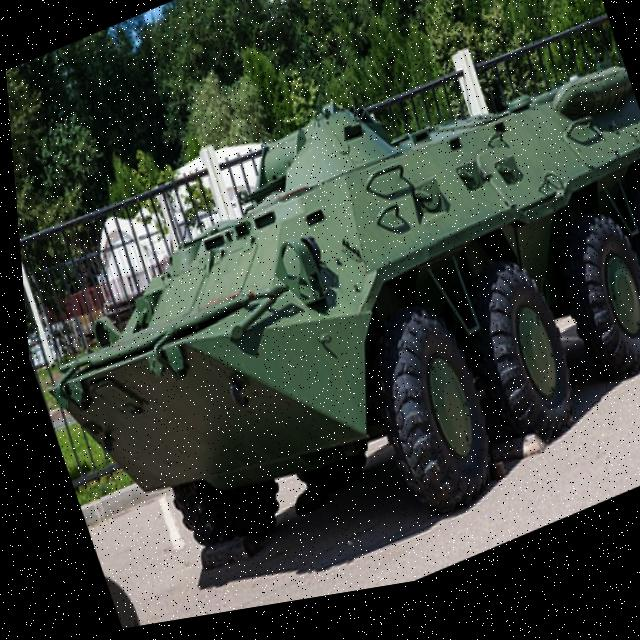MIL_APC: (4, 0, 640, 640)
